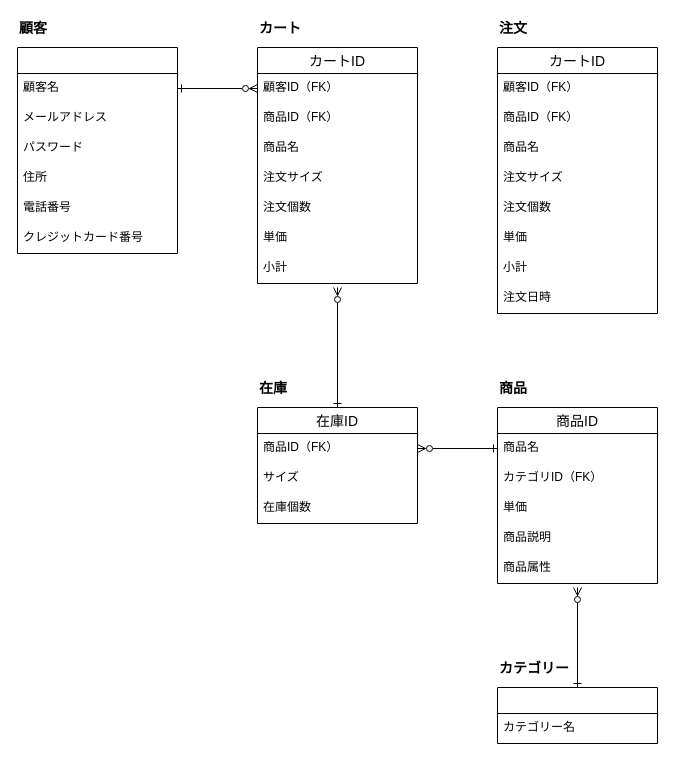
The diagram is 675 pixels wide and 763 high, and some of its shapes have lost their labels. Each missing label, with the box of its shape:
カテゴリーID: (496, 686, 658, 744)
顧客ID: (16, 46, 178, 254)
